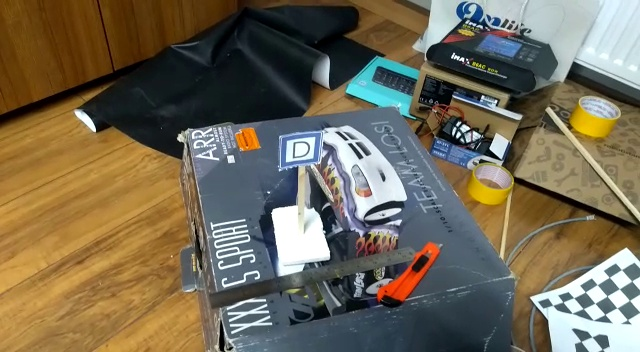durak: (274, 130, 325, 171)
